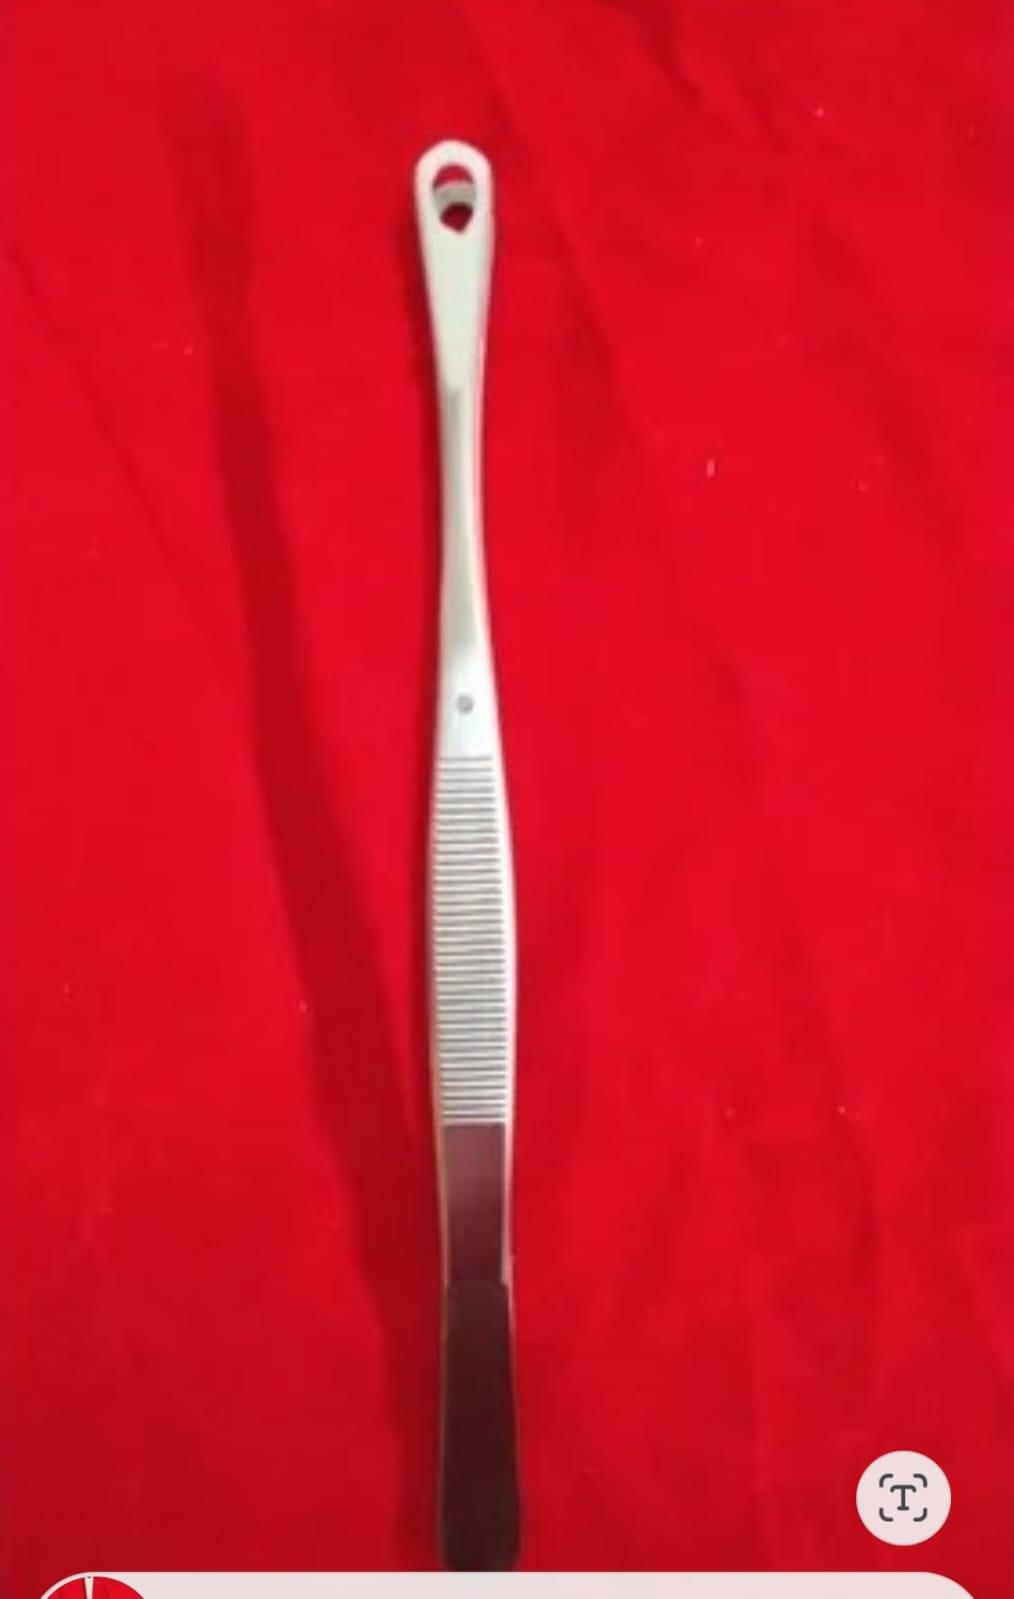Eye Intestinal Forceps: (365, 105, 587, 1568)
